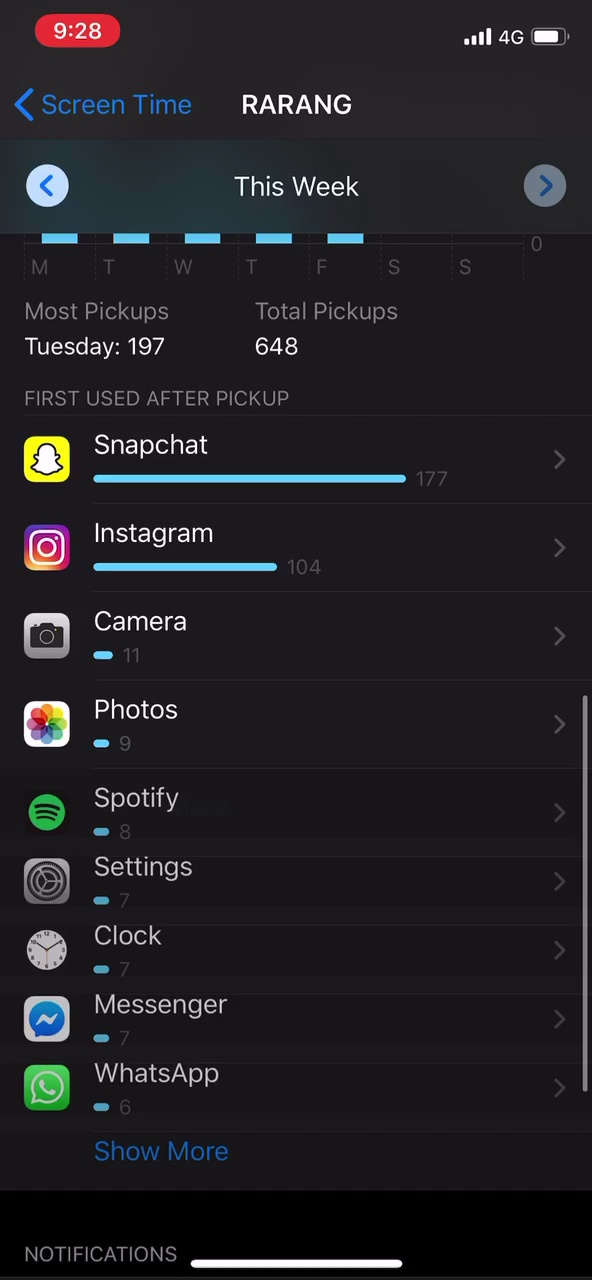pick_app: (11, 428, 478, 492), (20, 511, 378, 592), (6, 1061, 293, 1122), (7, 991, 286, 1050), (18, 691, 232, 760), (15, 608, 236, 672), (18, 850, 232, 916), (18, 780, 242, 841), (22, 922, 217, 983)
pick_over: (12, 291, 436, 367)
week: (223, 167, 378, 214)
